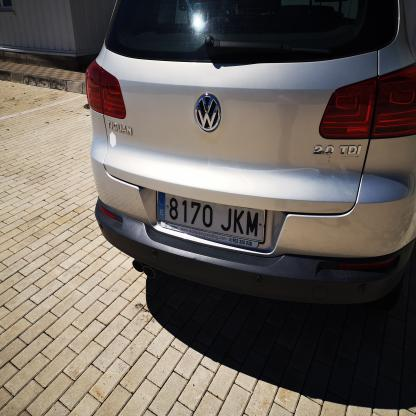patente: (156, 192, 266, 246)
